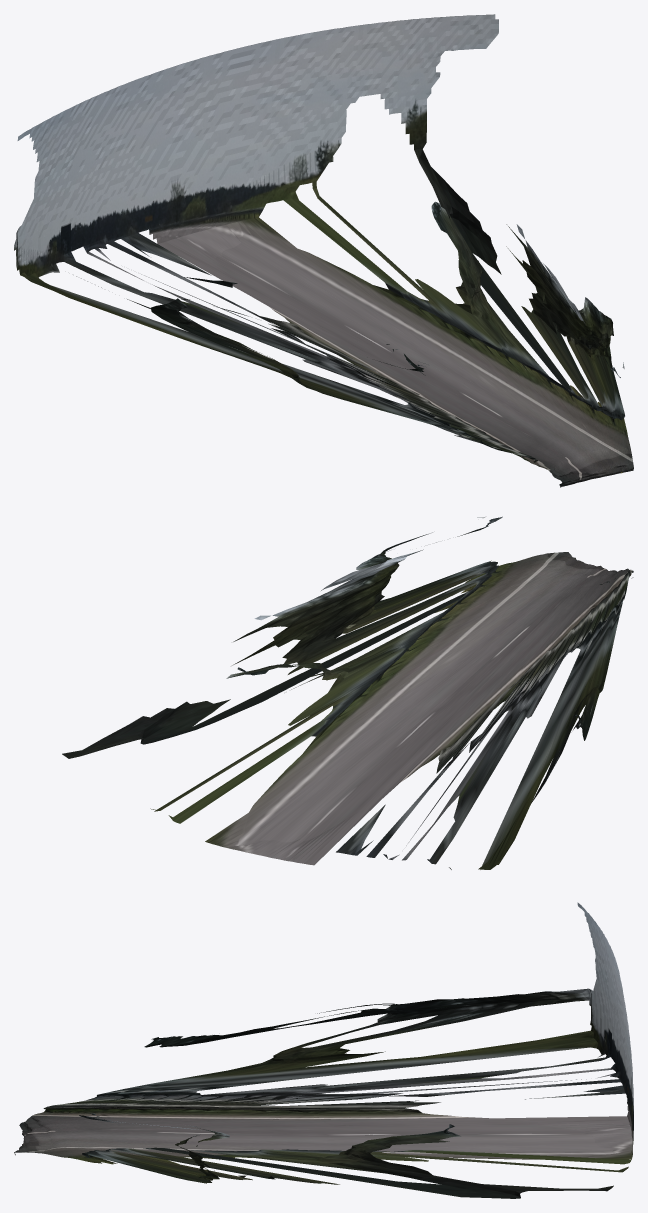
3 views of the same model, one above another, from view 1: azimuth 30°, elevation 25°; view 2: azimuth 150°, elevation 25°; view 3: azimuth 270°, elevation 25° (orthographic). The views are drawn at different scales.
Parts seen in each view (by area): view 1: defaultobject; view 2: defaultobject; view 3: defaultobject.
Part boxes in pixels (x1,y1,x2,y2): defaultobject: [14, 14, 633, 487]; defaultobject: [62, 516, 633, 869]; defaultobject: [14, 902, 633, 1198].
Size of the model in its own units: 34.2 by 12.4 by 44.58.
1 material, 1 textured.
